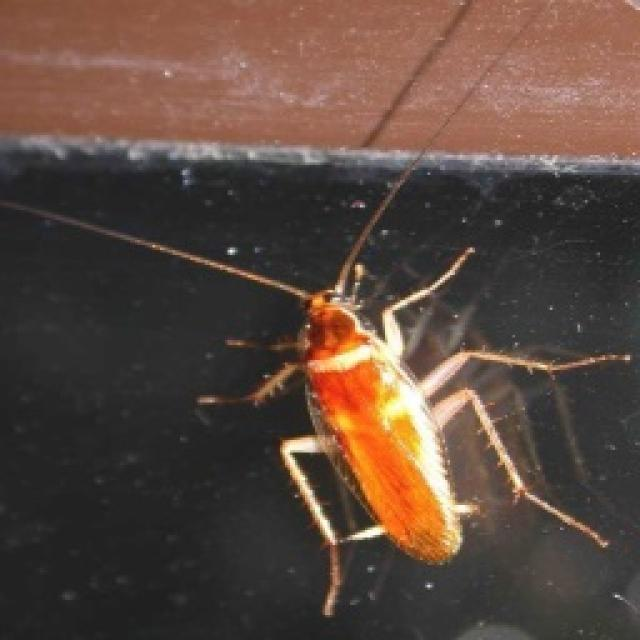cockroach: (238, 264, 631, 636)
